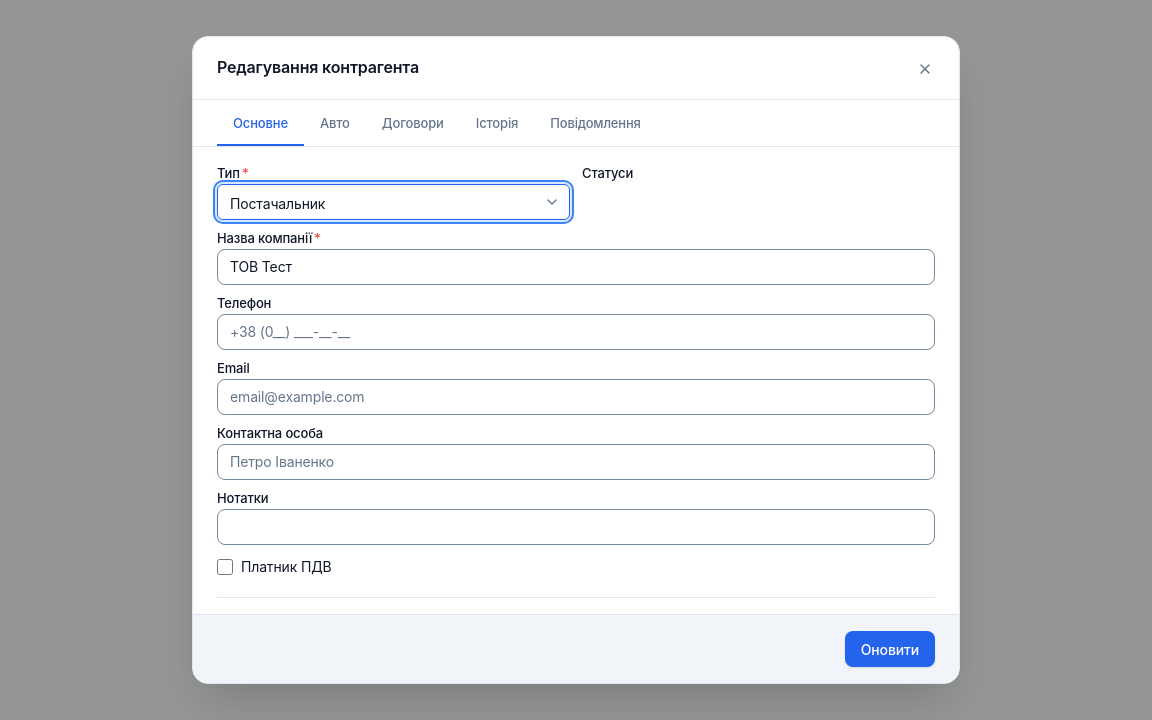
Test: CounterpartyEditModal — «Вид договору» за типом контрагента (BR-CP-005) › SUPPLIER: submit без дотику до select шле дефолтний PURCHASE
Click the button "Договори" at (413, 125), box [366,104,460,146]
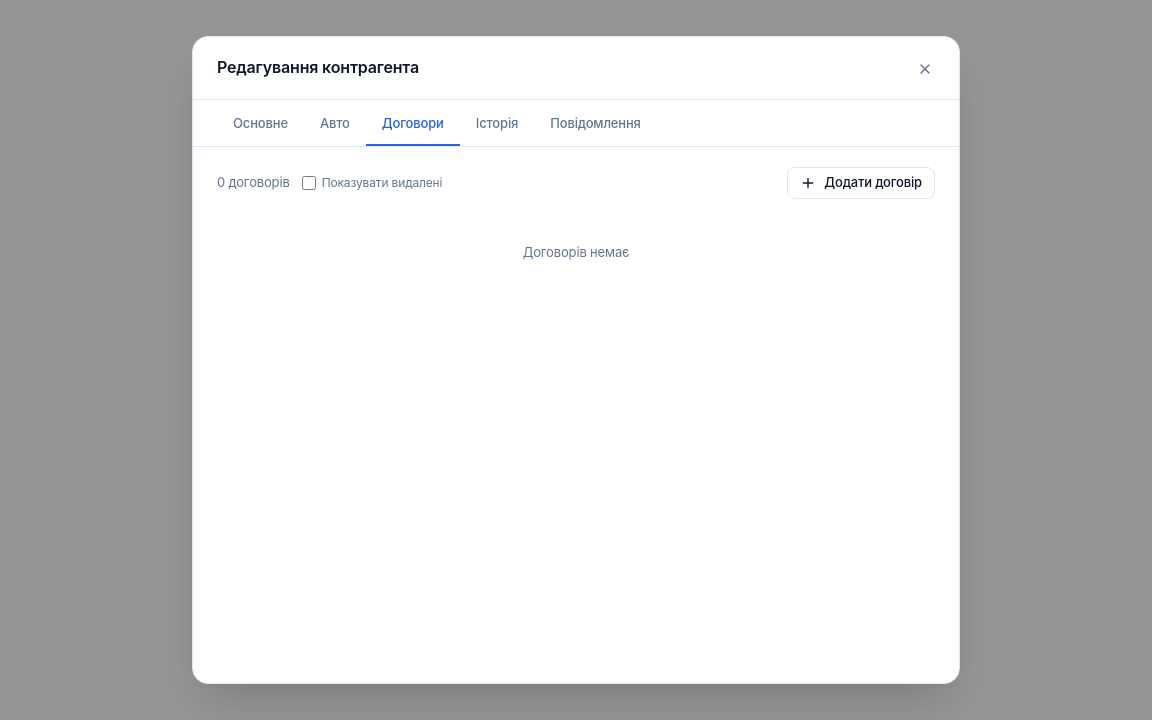
Now the button "Додати договір" is shown
Click the button "Додати договір" at (861, 182), box [787,166,935,198]
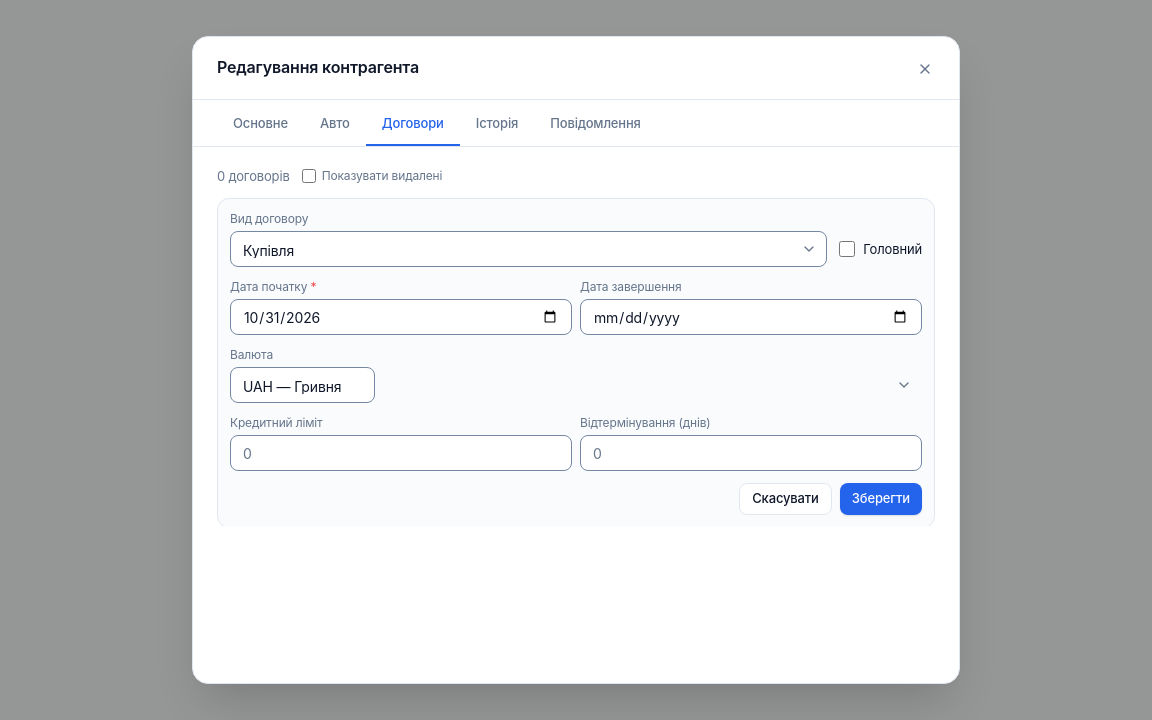
Click the button "Зберегти" at (881, 499), box [840,483,922,515]
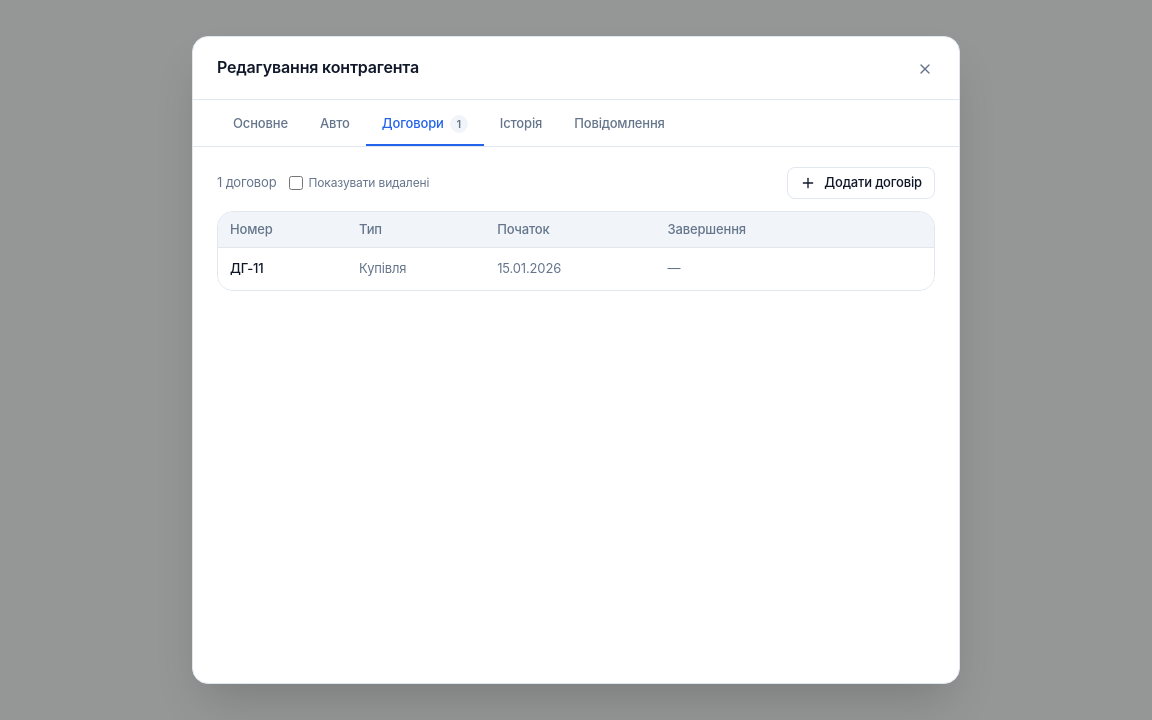
Now the text "ДГ-11" is shown, box [230,260,264,276]
